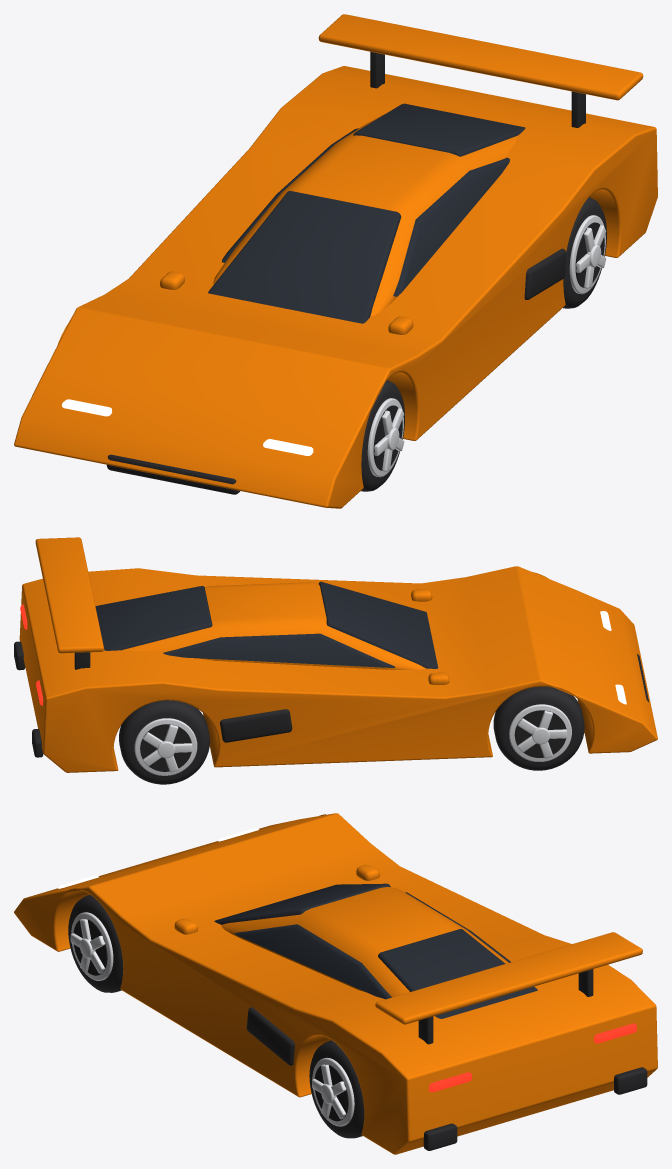
Rendered from reward-supercar.glb.
3 views of the same model, one above another, from view 1: azimuth 30°, elevation 25°; view 2: azimuth 150°, elevation 25°; view 3: azimuth 270°, elevation 25° (orthographic). The views are drawn at different scales.
Parts seen in each view (by area): view 1: body, screen, cabin, wing, rear, sidewin, grille, tyre.001, tyre.003, intake.001, rim.004, rim.002; view 2: body, cabin, screen, wing, rear, sidewin, tyre.002, tyre, intake, hubdark.002, hubdark, rim.003 (+1 smaller); view 3: body, cabin, wing, rear, sidewin, screen, tyre.003, tyre.001, intake.001, rim.004, rim.002, exhaust.001 (+3 smaller).
Part boxes in pixels (x1,y1,x2,y2): body: (14, 66, 657, 508); screen: (208, 191, 401, 323); cabin: (213, 114, 517, 316); wing: (318, 14, 643, 100); rear: (353, 103, 525, 156); sidewin: (222, 128, 509, 296); grille: (106, 454, 239, 494); tyre.001: (361, 380, 404, 491); tyre.003: (563, 197, 606, 308); intake.001: (524, 248, 566, 299); rim.004: (569, 215, 605, 294); rim.002: (367, 398, 403, 477); body: (19, 566, 657, 772); cabin: (122, 582, 425, 669); screen: (318, 581, 438, 668); wing: (35, 537, 103, 653); rear: (95, 586, 212, 650); sidewin: (163, 633, 395, 667); tyre.002: (119, 700, 209, 784); tyre: (493, 686, 584, 770); intake: (220, 709, 292, 742); hubdark.002: (140, 724, 191, 771); hubdark: (514, 710, 566, 757); rim.003: (134, 718, 197, 775); body: (14, 813, 657, 1154); cabin: (221, 887, 508, 997); wing: (375, 932, 642, 1024); rear: (378, 929, 537, 1018); sidewin: (234, 892, 510, 999); screen: (214, 883, 390, 924); tyre.003: (309, 1040, 364, 1138); tyre.001: (68, 894, 123, 992); intake.001: (246, 1007, 294, 1065); rim.004: (312, 1057, 354, 1126); rim.002: (71, 912, 113, 980); exhaust.001: (423, 1123, 457, 1150).
Size of the model in its own units: 5.64 by 1.35 by 4.92.
